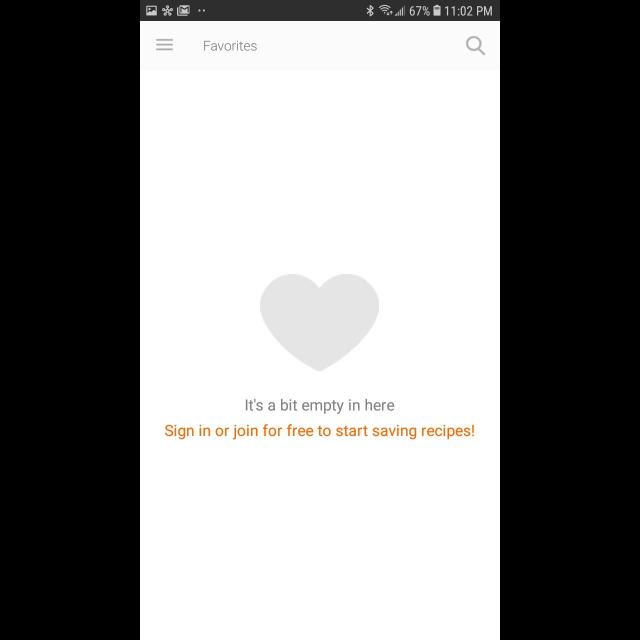icon: (260, 274, 380, 372), (466, 36, 486, 56), (156, 38, 174, 52)
text: (166, 424, 474, 440), (246, 398, 394, 414), (205, 40, 258, 51)
uppertaskbar: (140, 1, 500, 22)
